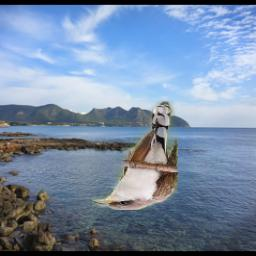Cuckoo: (92, 102, 178, 211)
